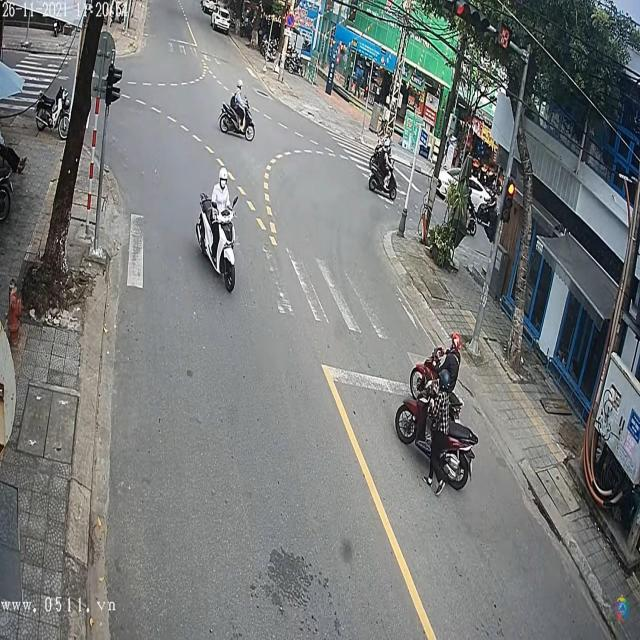car: (200, 2, 218, 15)
motorcycle: (395, 395, 480, 495), (195, 195, 239, 296), (220, 102, 257, 144), (370, 156, 399, 201)
